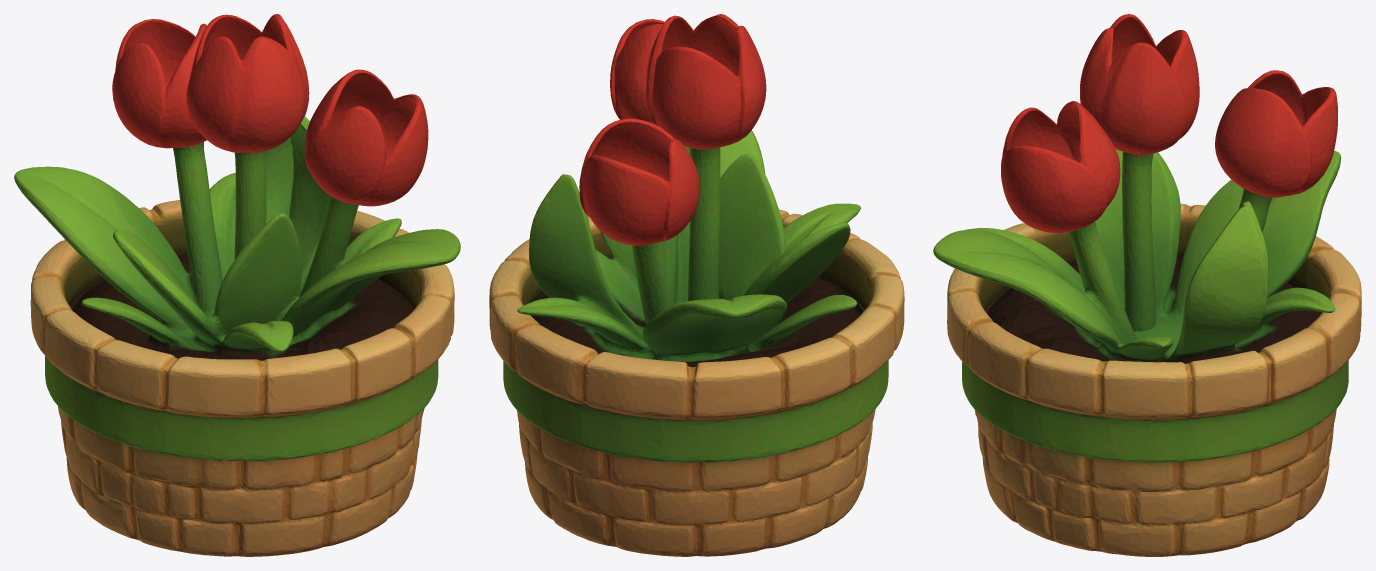
The model's file is flower_3.glb.
3 renders of one model, left to right at view 1: azimuth 30°, elevation 25°; view 2: azimuth 150°, elevation 25°; view 3: azimuth 270°, elevation 25°, orthographic. The views are drawn at different scales.
Parts seen in each view (by area): view 1: tripo_node_9cd618a1-b70f-4dee-80ed-99b32b572757; view 2: tripo_node_9cd618a1-b70f-4dee-80ed-99b32b572757; view 3: tripo_node_9cd618a1-b70f-4dee-80ed-99b32b572757.
Boxes of the visible parts, left/top/right/bottom form: tripo_node_9cd618a1-b70f-4dee-80ed-99b32b572757: left=14, top=14, right=460, bottom=556; tripo_node_9cd618a1-b70f-4dee-80ed-99b32b572757: left=489, top=14, right=904, bottom=556; tripo_node_9cd618a1-b70f-4dee-80ed-99b32b572757: left=933, top=14, right=1361, bottom=556.
Bounding box in the file's own units: 0.8105 × 0.9991 × 0.8405.
1 material, 1 textured.
